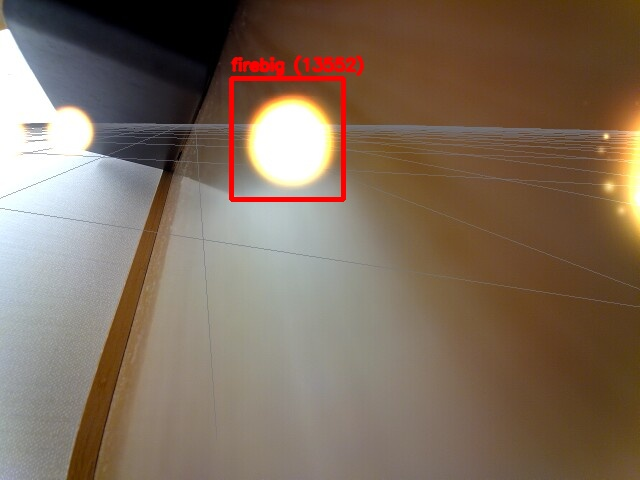firebig: (231, 78, 343, 199)
